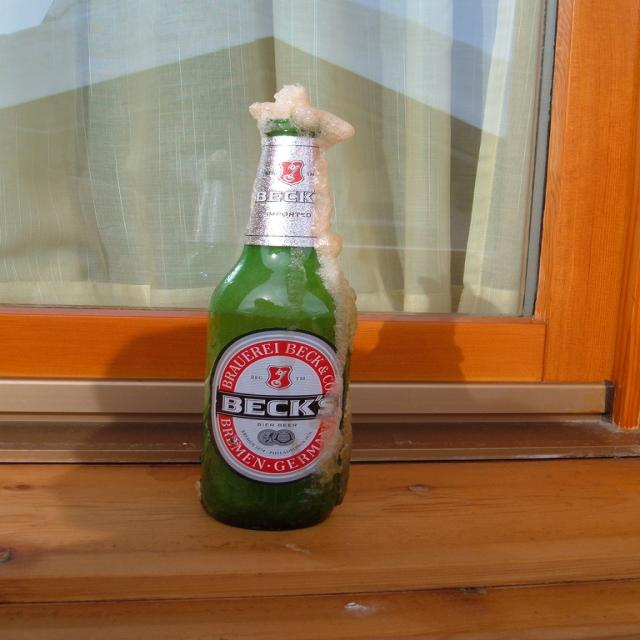becks: (210, 331, 343, 483)
